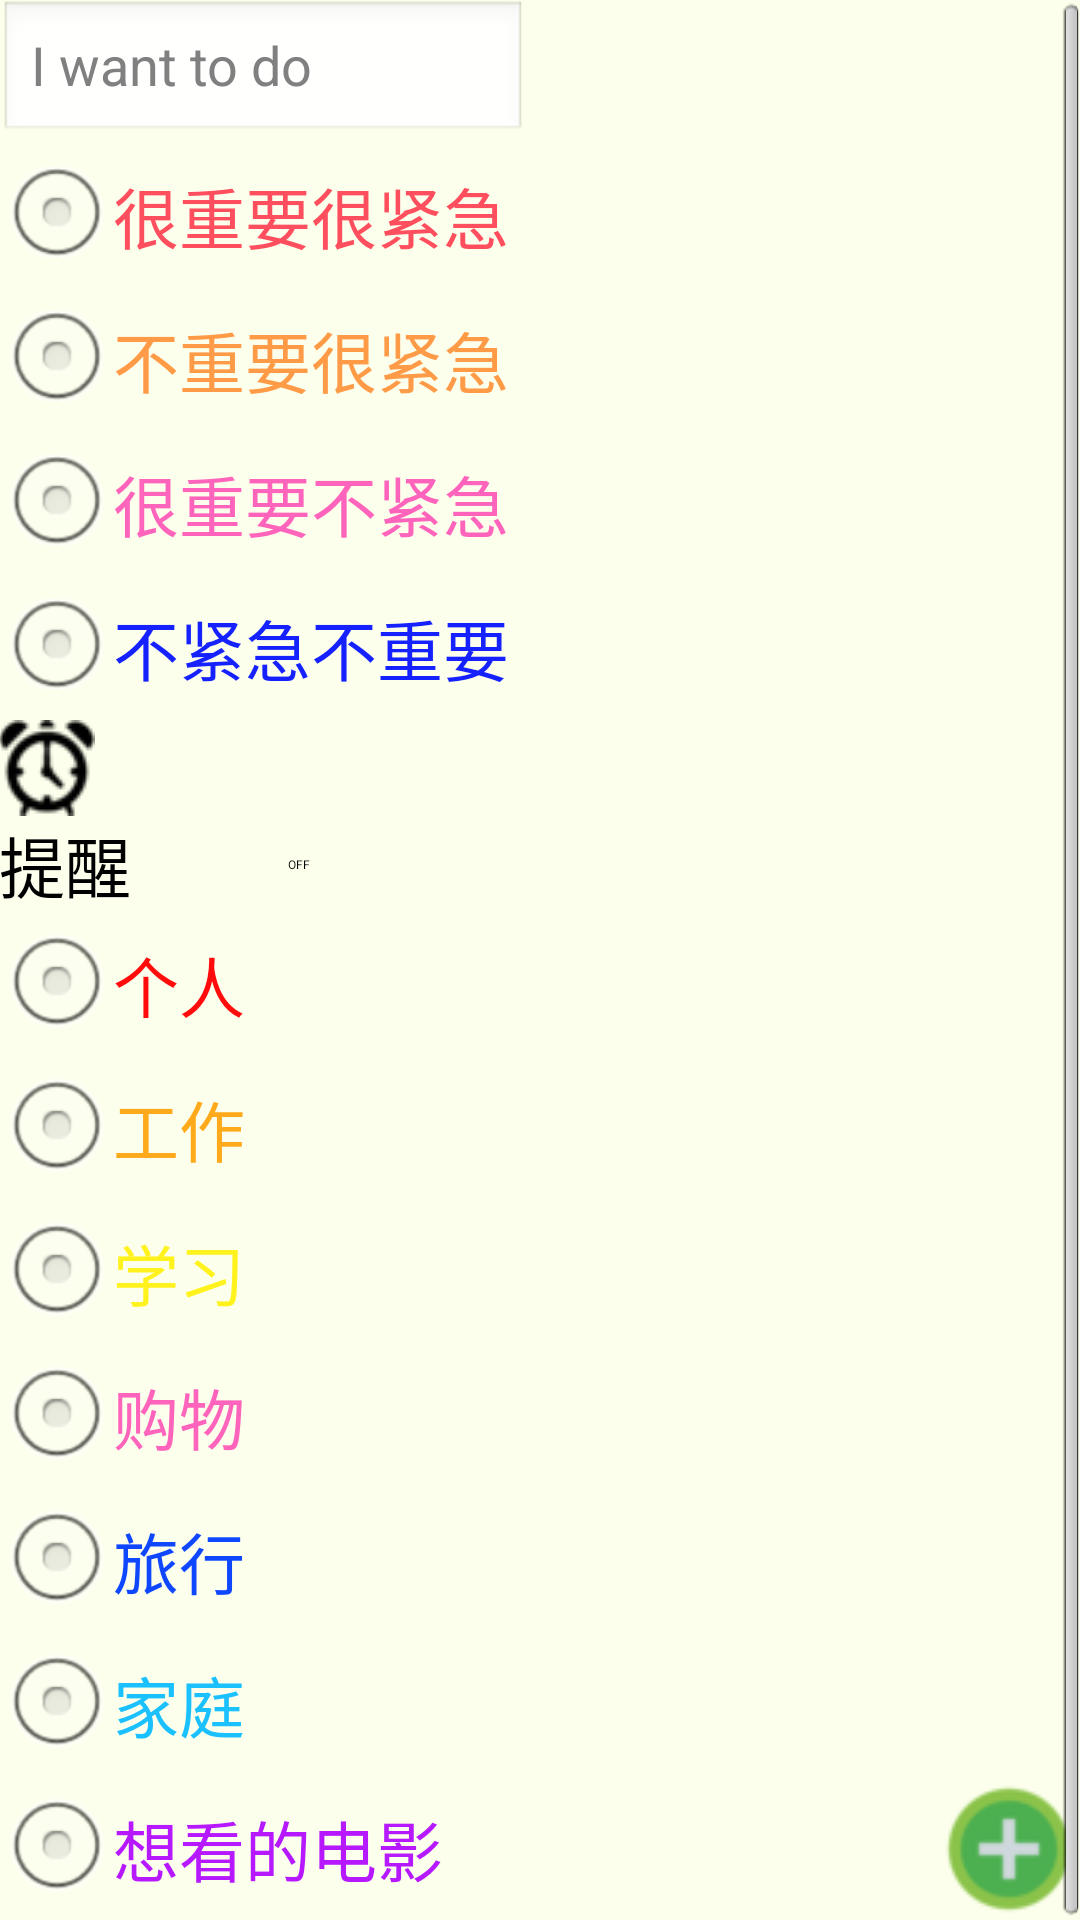

Named icons in this screenshot (1080 × 1920) and their centers, (x,y):
addtwo: (1013,1846)
